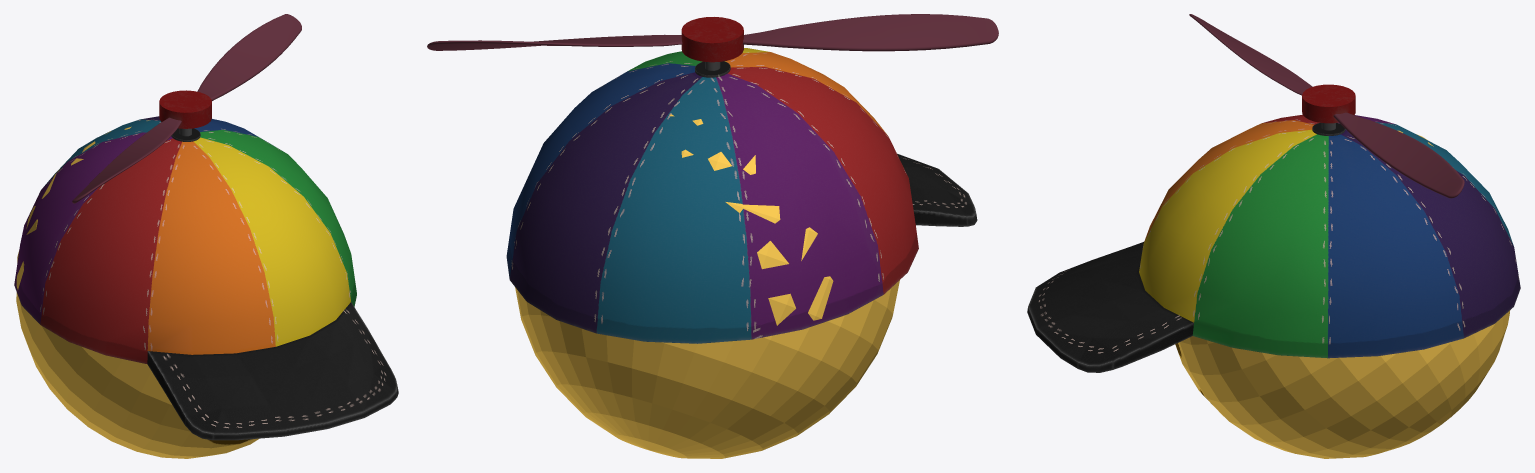
File: propellerhat.glb
The picture shows the model from 3 angles, left to right: view 1: azimuth 30°, elevation 25°; view 2: azimuth 150°, elevation 25°; view 3: azimuth 270°, elevation 25°; orthographic projection. The views are drawn at different scales.
Parts seen in each view (by area): view 1: Hat, Sphere, Propeller; view 2: Hat, Sphere, Propeller; view 3: Hat, Sphere, Propeller.
Boxes of the visible parts, bbox=[...] form: Hat: bbox=[14, 90, 398, 440]; Sphere: bbox=[16, 120, 258, 458]; Propeller: bbox=[72, 14, 301, 203]; Hat: bbox=[506, 17, 977, 343]; Sphere: bbox=[515, 114, 899, 458]; Propeller: bbox=[427, 14, 998, 51]; Hat: bbox=[1027, 84, 1520, 372]; Sphere: bbox=[1175, 130, 1509, 458]; Propeller: bbox=[1189, 14, 1464, 198].
Size of the model in its own units: 2.61 by 2.43 by 3.1.
2 materials, 2 textured.
